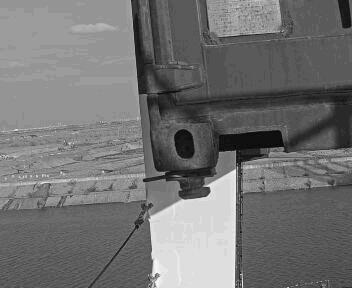twist_lock_1: (195, 160, 257, 203)
